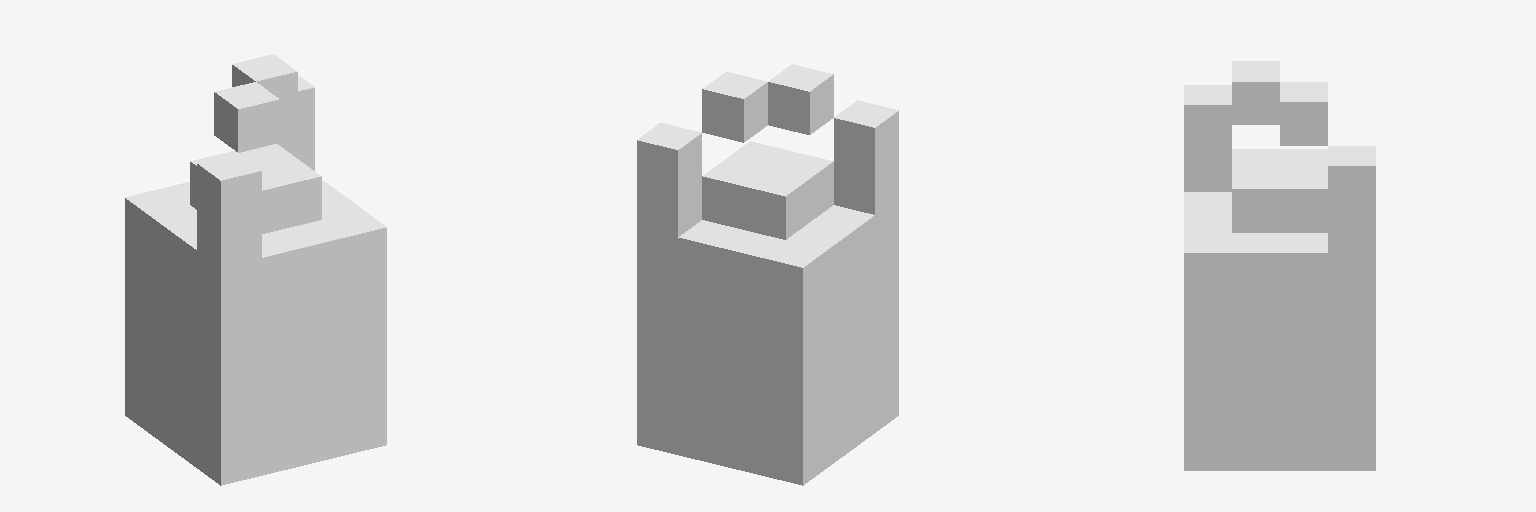
Rendered from SoulLantern.obj.
3 views of the same model, side by side, from view 1: azimuth 30°, elevation 25°; view 2: azimuth 150°, elevation 25°; view 3: azimuth 270°, elevation 25° (orthographic).
Visible parts, largest first — view 1: object 1; view 2: object 1; view 3: object 1.
Part boxes in pixels (x1,y1,x2,y2): object 1: (125, 54, 386, 485); object 1: (637, 64, 898, 485); object 1: (1184, 61, 1375, 470).
Size of the model in its own units: 0.4 by 0.8 by 0.4.